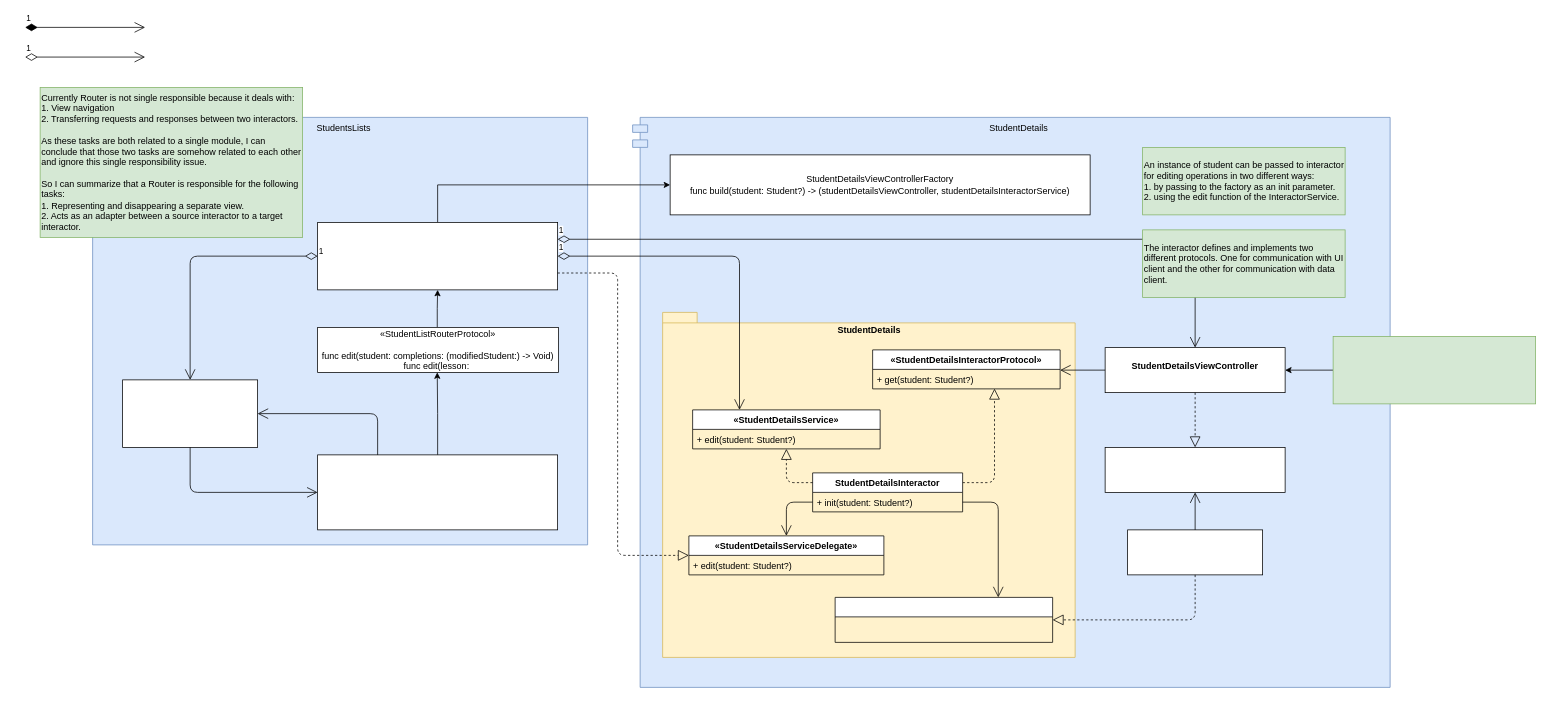
This 1549x701 diagram has some shape labels left out. Here are the shapes that lost their labels. From the top down, the centre of each, then its label:
the point at 437,256: StudentListRouter func edit(student: completions: (modifiedStudent:) -> Void)
the point at 1434,370: View controller can get student on view will appear event to show it.
the point at 190,413: StudentListViewController + field: Type + method(): Type
the point at 1194,469: StudentDetailsPresenterDelegate
the point at 437,492: StudentListInteractor + field: Type + method(): Type
the point at 1195,552: StudentDetailsPresenter
the point at 943,619: «StudentDetailsInteractorDelegate»
